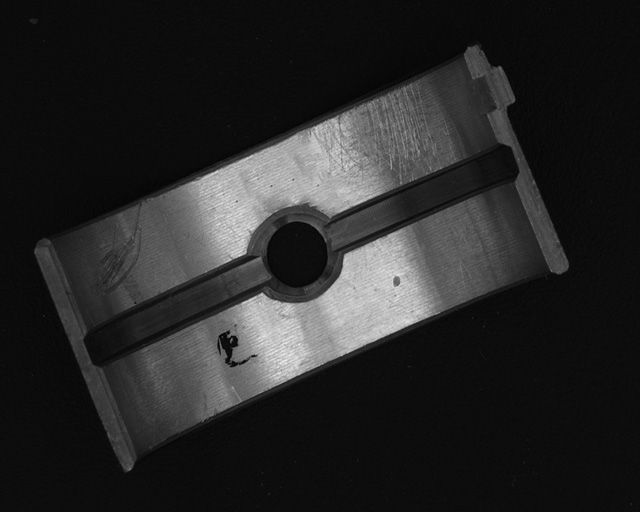blot: (216, 329, 260, 369)
bruise: (392, 275, 402, 288)
gap: (330, 144, 518, 252), (82, 258, 268, 367)
hole: (256, 215, 338, 298)
nick: (95, 200, 145, 297)
scratch: (305, 80, 460, 185)
